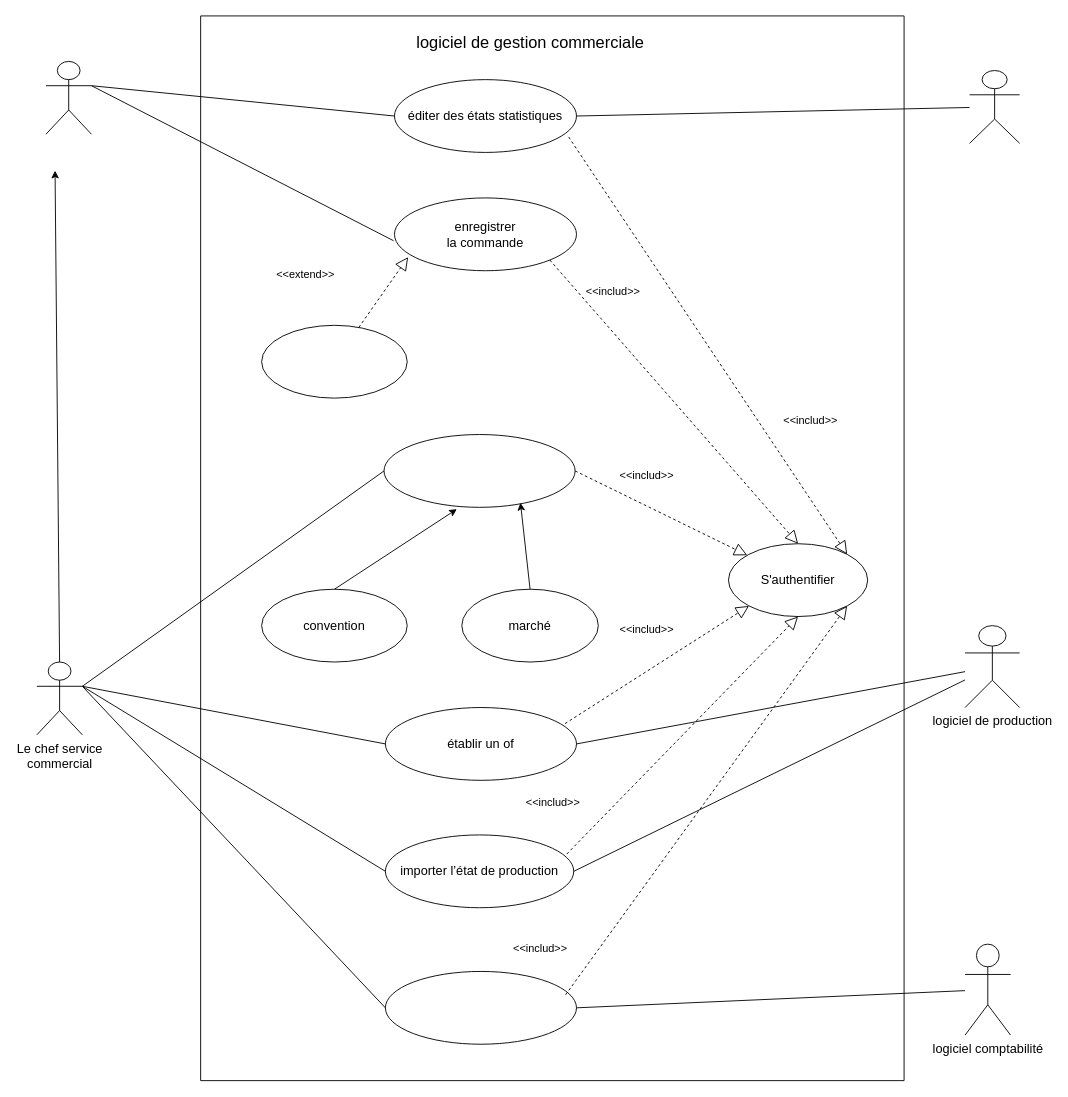
Image size: 1068x1097. Some labels were removed from this diagram. Each missing label, with the box of its shape:
directeur: (969, 70, 1020, 143)
enregistrer client: (261, 324, 407, 398)
l’agent commercial: (45, 61, 91, 134)
établir un op: (384, 971, 576, 1044)
étudier la commande: (383, 434, 575, 507)
